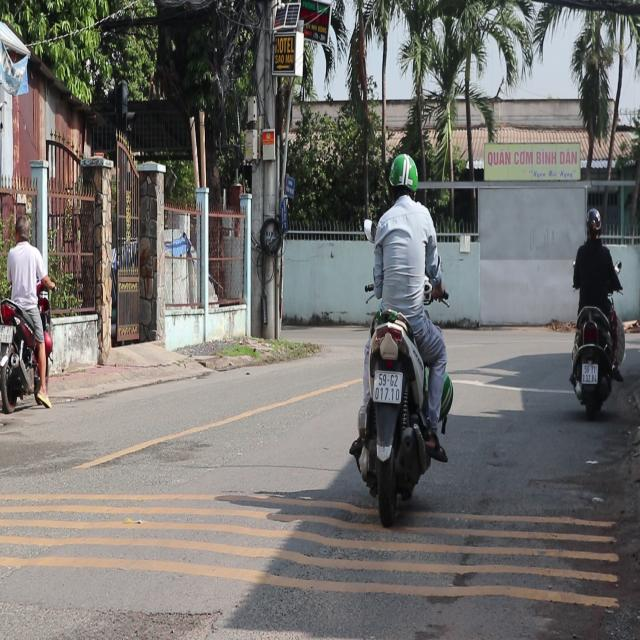helmet: (387, 152, 418, 204), (583, 206, 601, 238)
licenseplate: (349, 145, 455, 518), (567, 205, 625, 417), (0, 208, 53, 412)
motorcyclist: (14, 212, 32, 244)
nohelmet: (373, 371, 402, 404), (582, 362, 598, 382), (0, 324, 13, 341)
